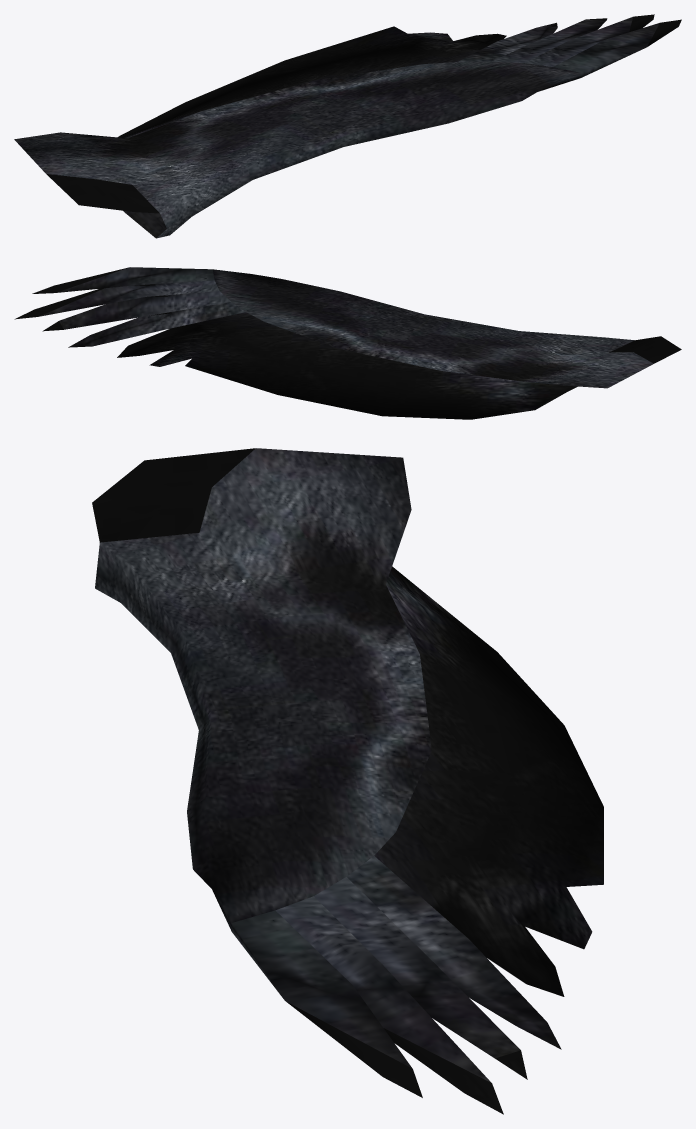
The model's file is AlaI.obj.
3 views of the same model, one above another, from view 1: azimuth 30°, elevation 25°; view 2: azimuth 150°, elevation 25°; view 3: azimuth 270°, elevation 25° (orthographic). The views are drawn at different scales.
Parts seen in each view (by area): view 1: Cube.002; view 2: Cube.002; view 3: Cube.002.
Part boxes in pixels (x1=…): Cube.002: x1=14, y1=14, x2=681, y2=238; Cube.002: x1=14, y1=267, x2=681, y2=419; Cube.002: x1=92, y1=448, x2=603, y2=1114.
Size of the model in its own units: 5.23 by 0.4488 by 2.
Materials: 2 (2 with a texture image).
